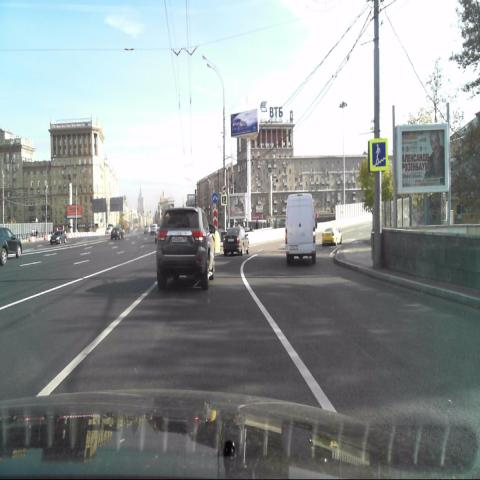6_6: (368, 140, 388, 171)
